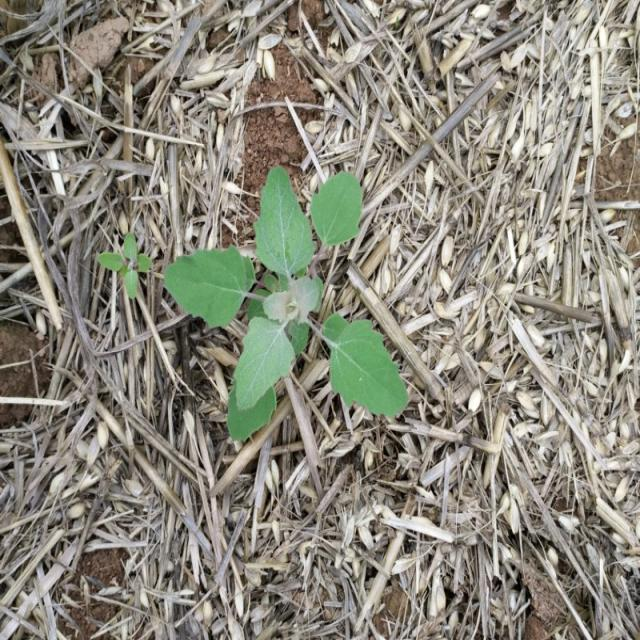ca: (164, 167, 409, 436)
